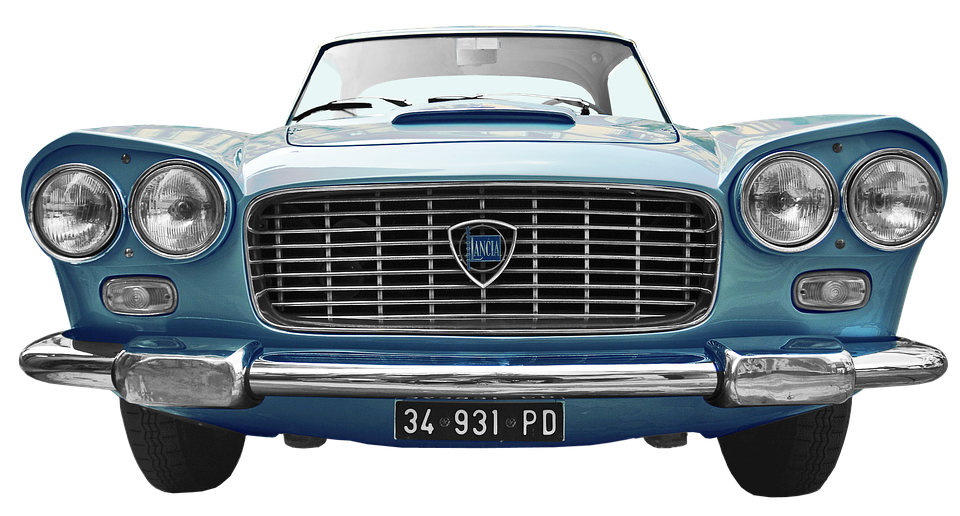number_plate: (381, 387, 585, 470)
